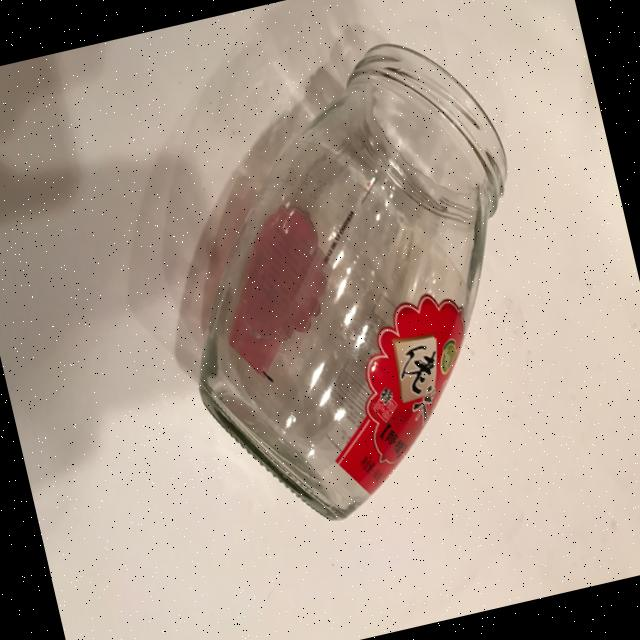glass: (122, 16, 578, 546)
